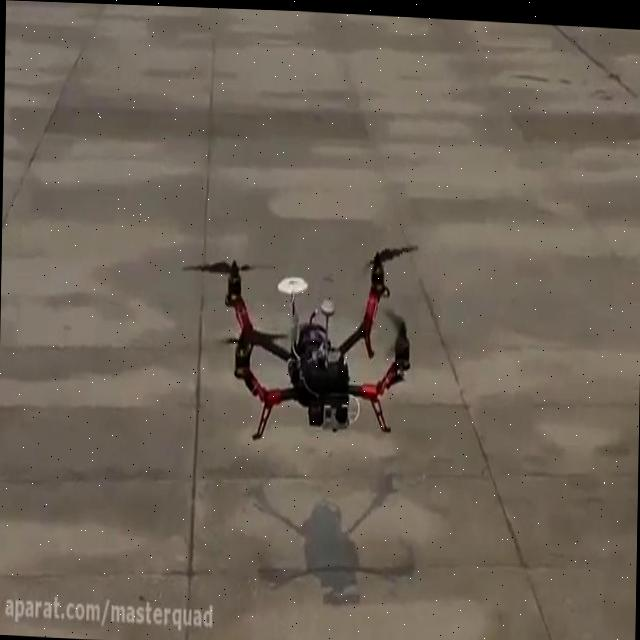drone: (174, 220, 421, 455)
